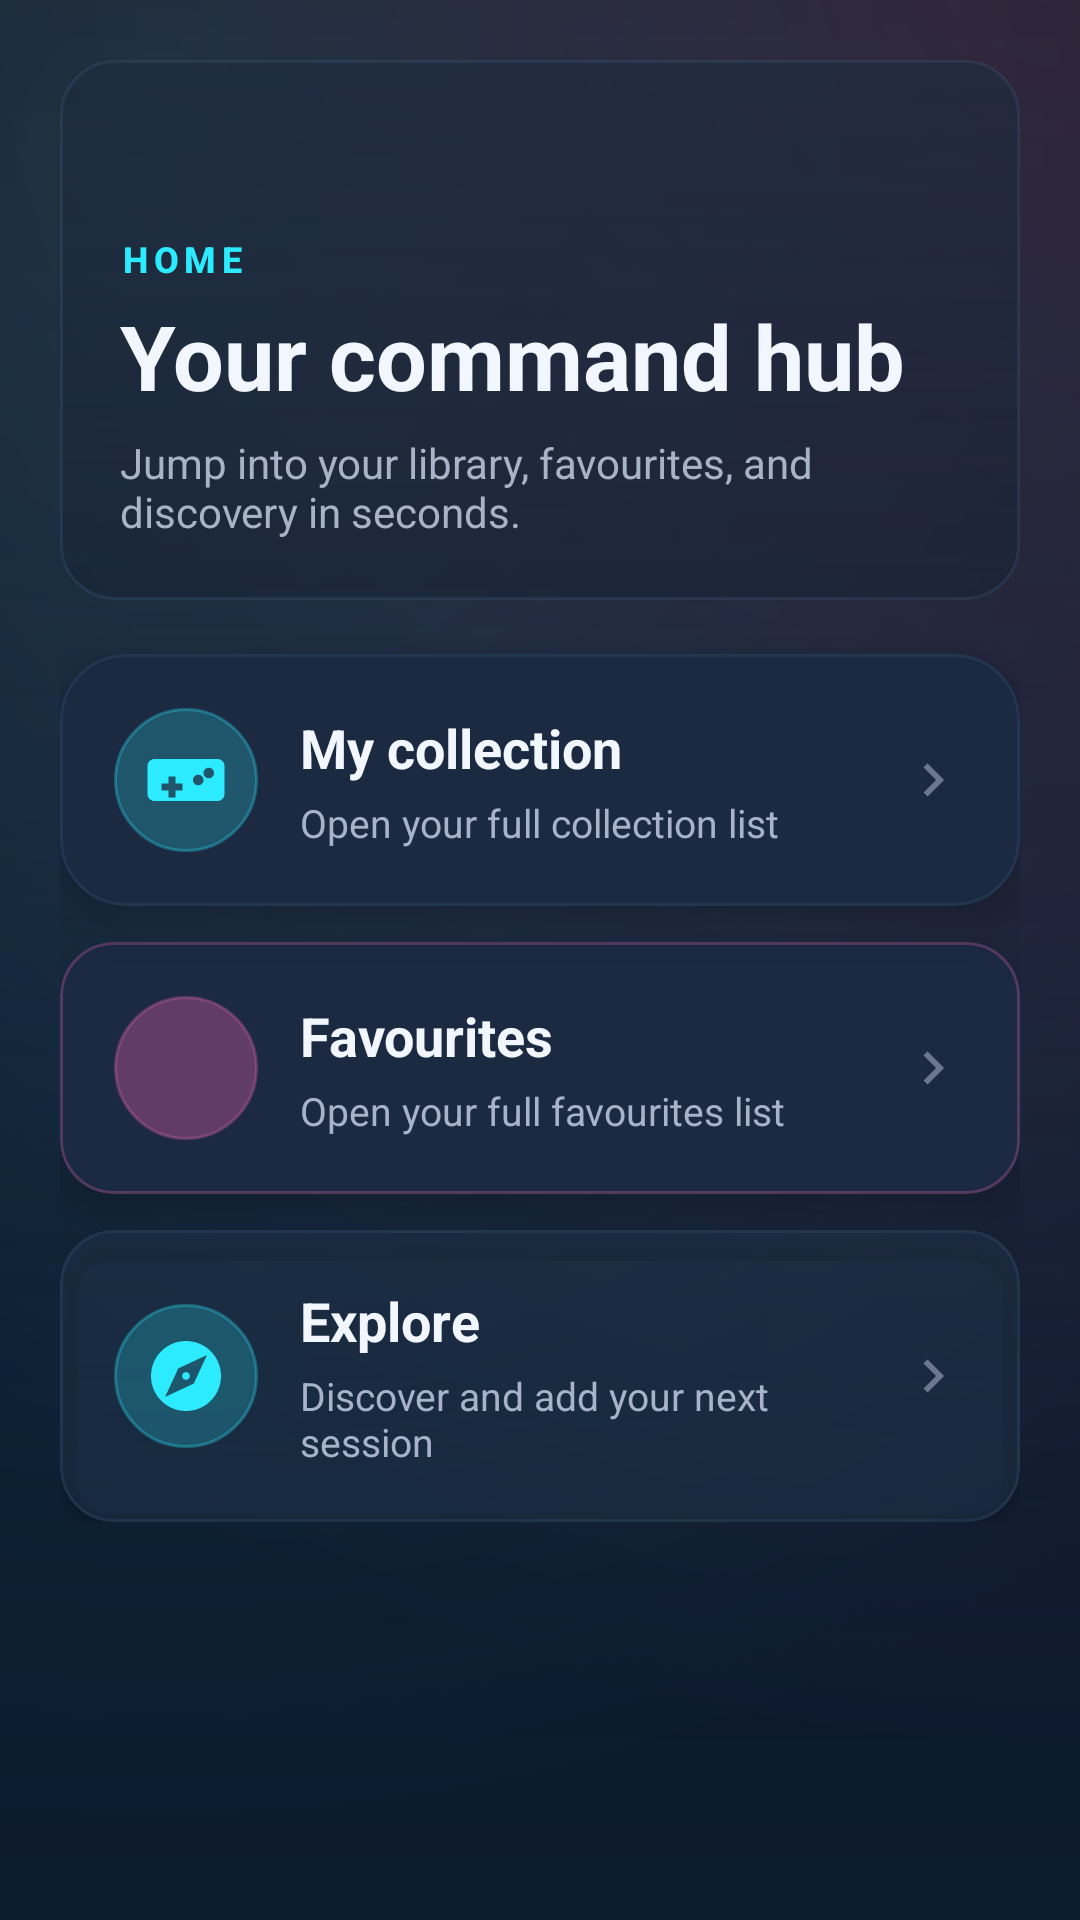

Where icons sit on this 1080px x 1920px app screen, as (x1, y1, x2, y2):
chevron right: (924, 763, 944, 796), (924, 1051, 944, 1084), (924, 1359, 944, 1392)
games: (114, 708, 258, 852)
